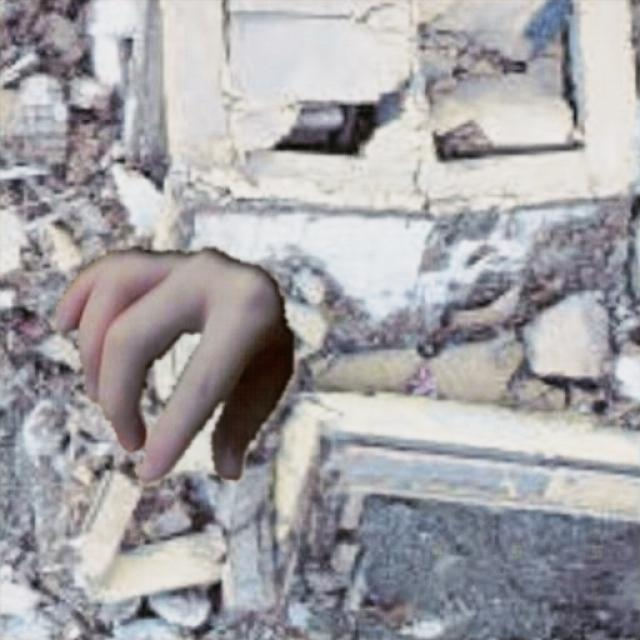Person in Rubble: (50, 246, 292, 489)
